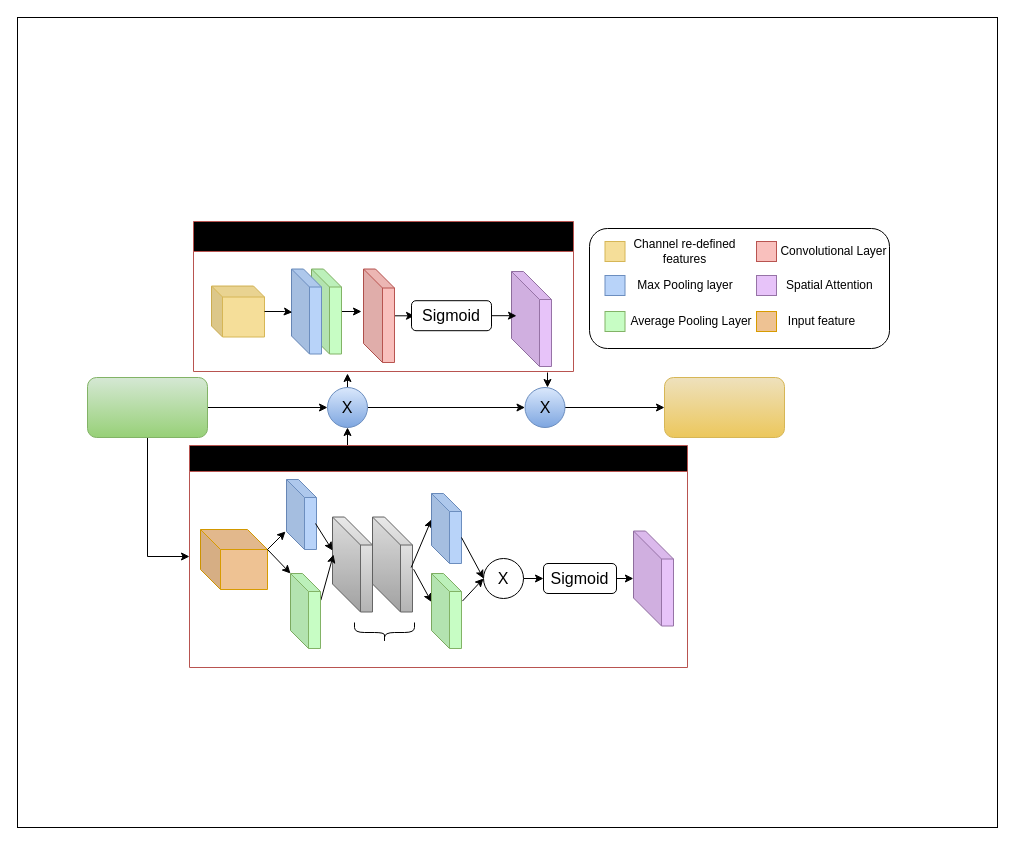
The diagram is 1015 pixels wide and 845 high, and some of its shapes have lost their labels. Here are the shapes that lost their labels. From the top down, the centre of each, then its label:
the point at 147,407: Image
the point at 724,407: Output
the point at 384,632: Shared Dense Layers
